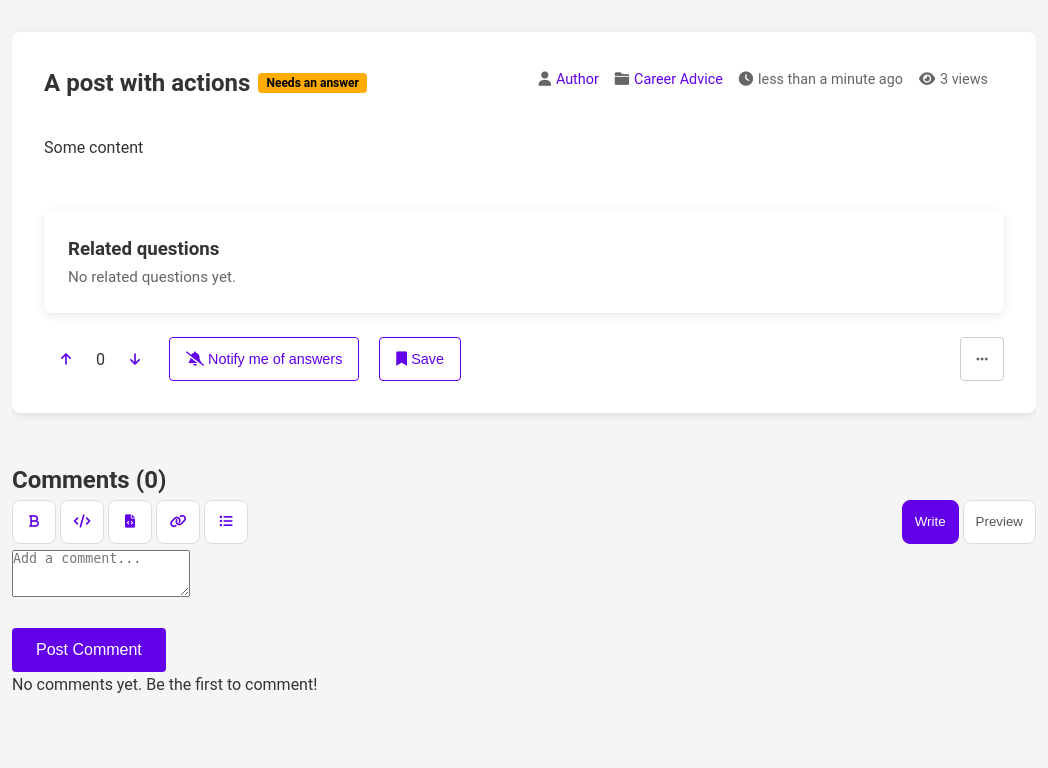
Test: PostDetail action row: inline reader actions vs. overflow menu › shows Edit and Delete (not Lock/Pin/Report) behind the toggle for the post author
This screenshot has width=1048, height=768.
Expected: the heading "A post with actions" is shown, [44,64,250,102]
Expected: the link "edit" is not shown
Click the button named "more actions".
click(982, 359)  # box [960,337,1004,381]
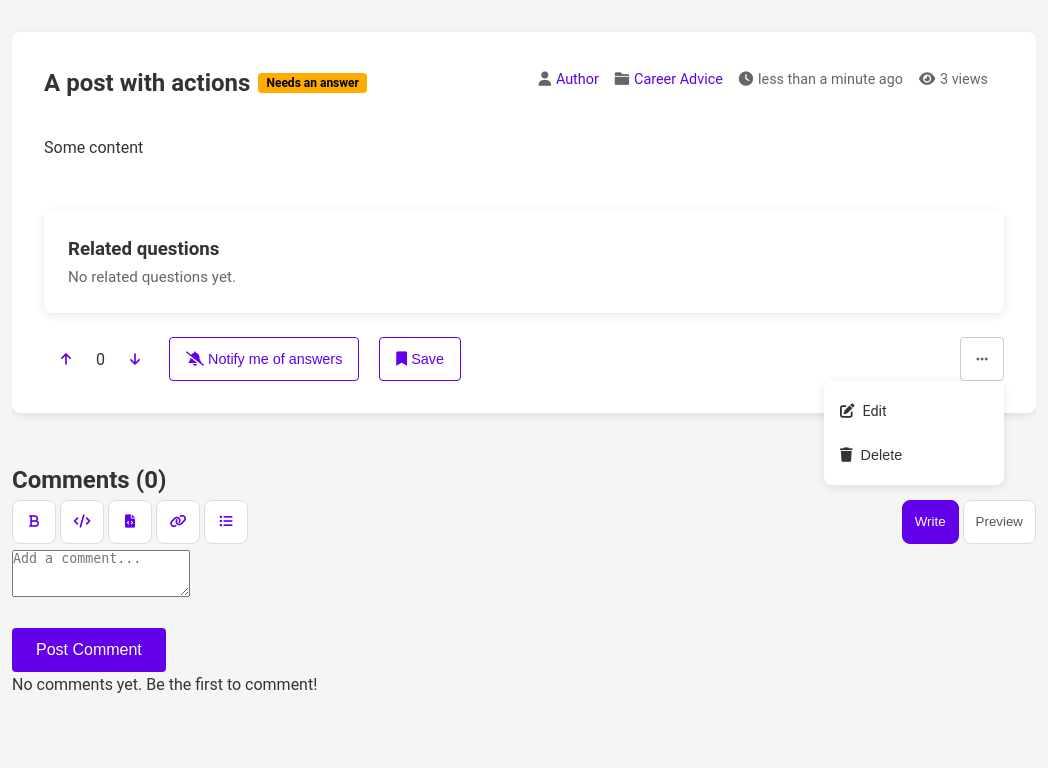
Expected: the link "Edit" is shown, [840,403,887,420]
Expected: the button "Delete" is shown, [824,433,1004,477]
